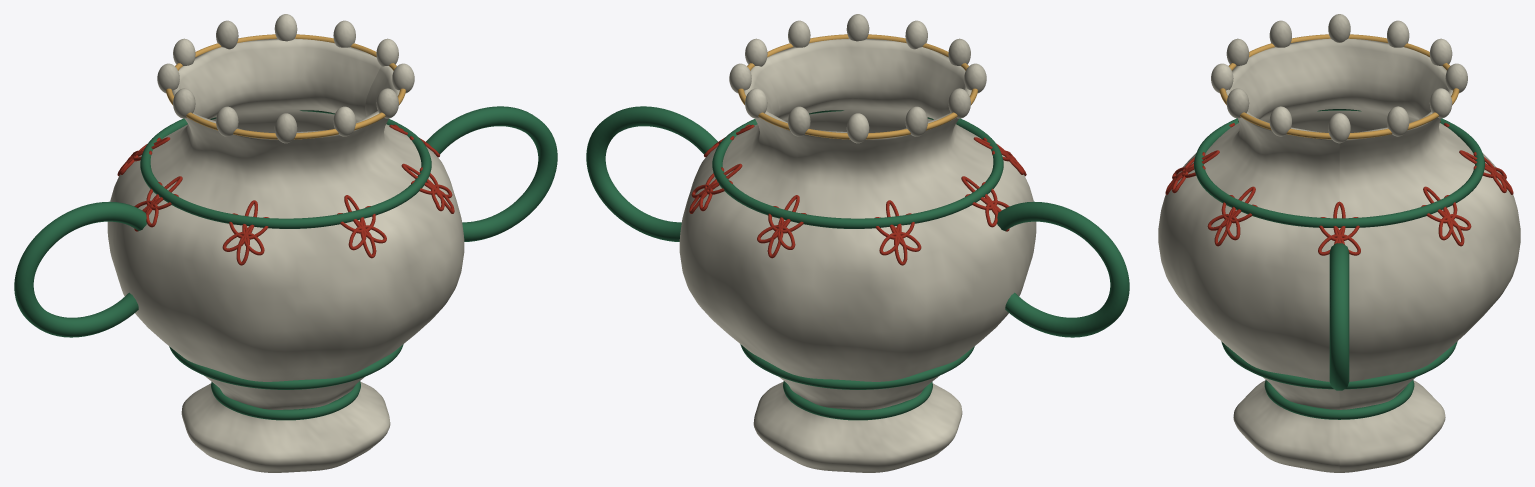
Rendered from bcm-957.glb.
The picture shows the model from 3 angles, left to right: view 1: azimuth 30°, elevation 25°; view 2: azimuth 150°, elevation 25°; view 3: azimuth 270°, elevation 25°; orthographic projection.
Parts seen in each view (by area): view 1: Continuous hollow vessel with formed lip, Applied loop handle, Petal relief - approximate, Crown gilt lip; view 2: Continuous hollow vessel with formed lip, Applied loop handle, Petal relief - approximate, Crown gilt lip; view 3: Continuous hollow vessel with formed lip, Applied loop handle, Petal relief - approximate, Crown gilt lip.
Part boxes in pixels (<box>): Continuous hollow vessel with formed lip: <box>107,14,464,472</box>; Applied loop handle: <box>14,106,557,420</box>; Petal relief - approximate: <box>117,124,454,265</box>; Crown gilt lip: <box>166,34,405,139</box>; Continuous hollow vessel with formed lip: <box>679,14,1036,472</box>; Applied loop handle: <box>586,106,1129,420</box>; Petal relief - approximate: <box>689,124,1026,265</box>; Crown gilt lip: <box>738,34,978,139</box>; Continuous hollow vessel with formed lip: <box>1158,14,1520,472</box>; Applied loop handle: <box>1194,109,1484,419</box>; Petal relief - approximate: <box>1165,121,1513,255</box>; Crown gilt lip: <box>1219,34,1459,139</box>.
Size of the model in its own units: 1.38 by 0.905 by 0.8031.
